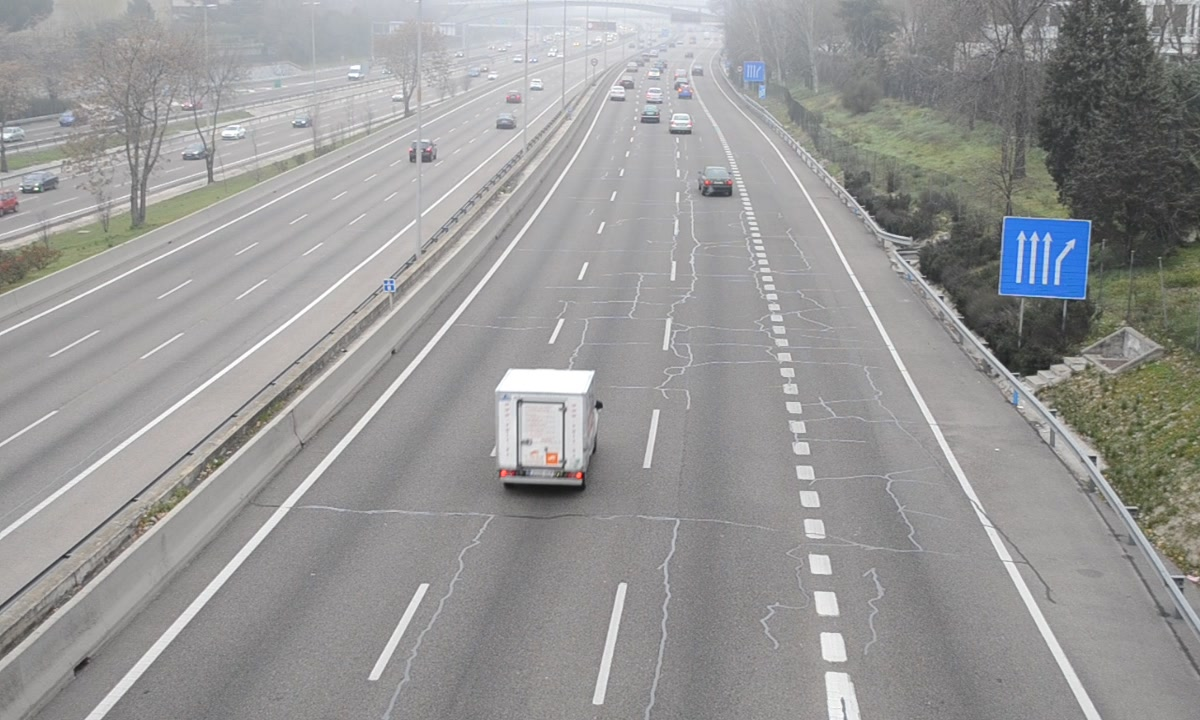car: (700, 164, 735, 196)
small-truck: (494, 370, 602, 487)
